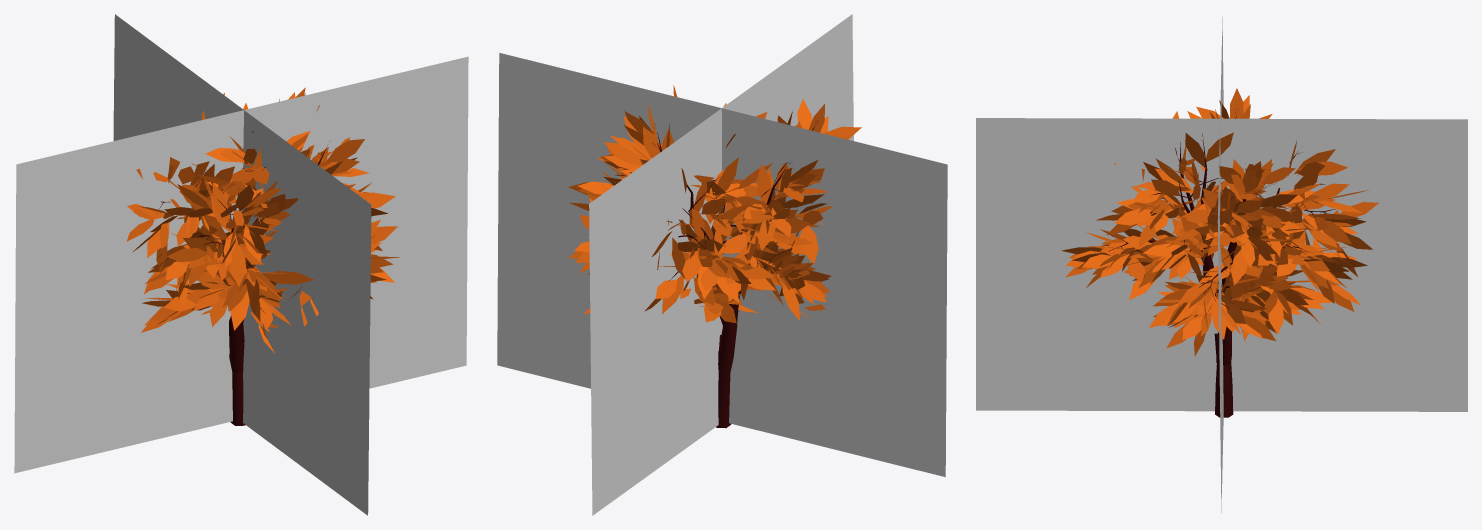
File: arvore vt2 (LOD).fbx
3 renders of one model, left to right at view 1: azimuth 30°, elevation 25°; view 2: azimuth 150°, elevation 25°; view 3: azimuth 270°, elevation 25°, orthographic. The views are drawn at different scales.
Visible parts, largest first — view 1: arvore_LOD.01, arvore_LOD.0; view 2: arvore_LOD.01, arvore_LOD.0; view 3: arvore_LOD.01, arvore_LOD.0.
Part boxes in pixels (x1=…): arvore_LOD.01: x1=14, y1=14, x2=468, y2=515; arvore_LOD.0: x1=126, y1=87, x2=399, y2=425; arvore_LOD.01: x1=497, y1=14, x2=947, y2=515; arvore_LOD.0: x1=568, y1=85, x2=861, y2=428; arvore_LOD.01: x1=976, y1=17, x2=1467, y2=512; arvore_LOD.0: x1=1061, y1=88, x2=1378, y2=417.
Bounding box in the file's own units: 2996 × 1996 × 2996.
